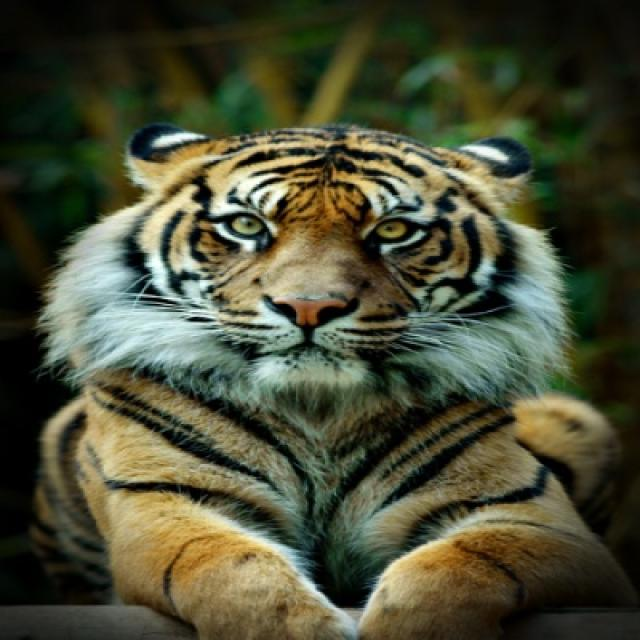Tiger: (26, 115, 638, 638)
